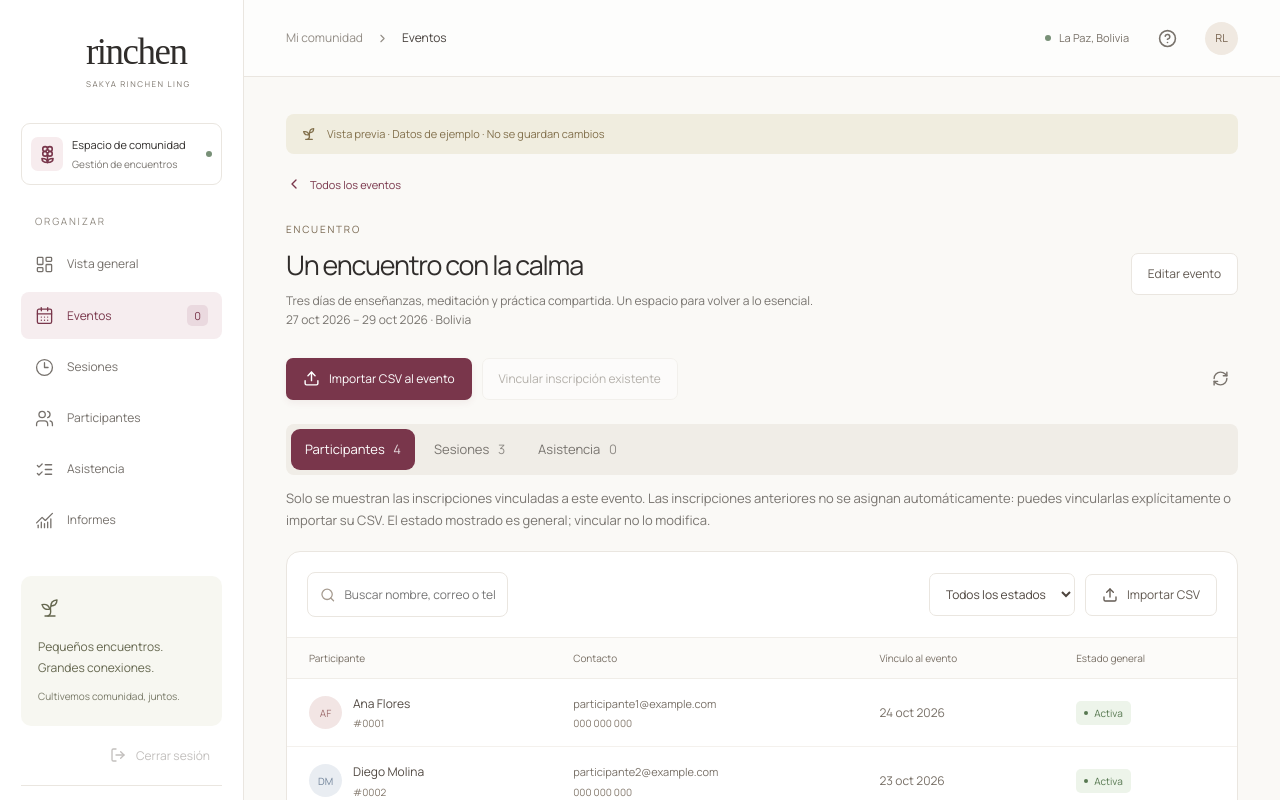
Test case: keeps event linking and CSV mutations disabled in preview
Expected: the button "Vincular inscripción existente" is disabled, x1=482 y1=358 x2=678 y2=400
Click the button "Importar CSV al evento" at (379, 379), box x1=286 y1=358 x2=472 y2=400
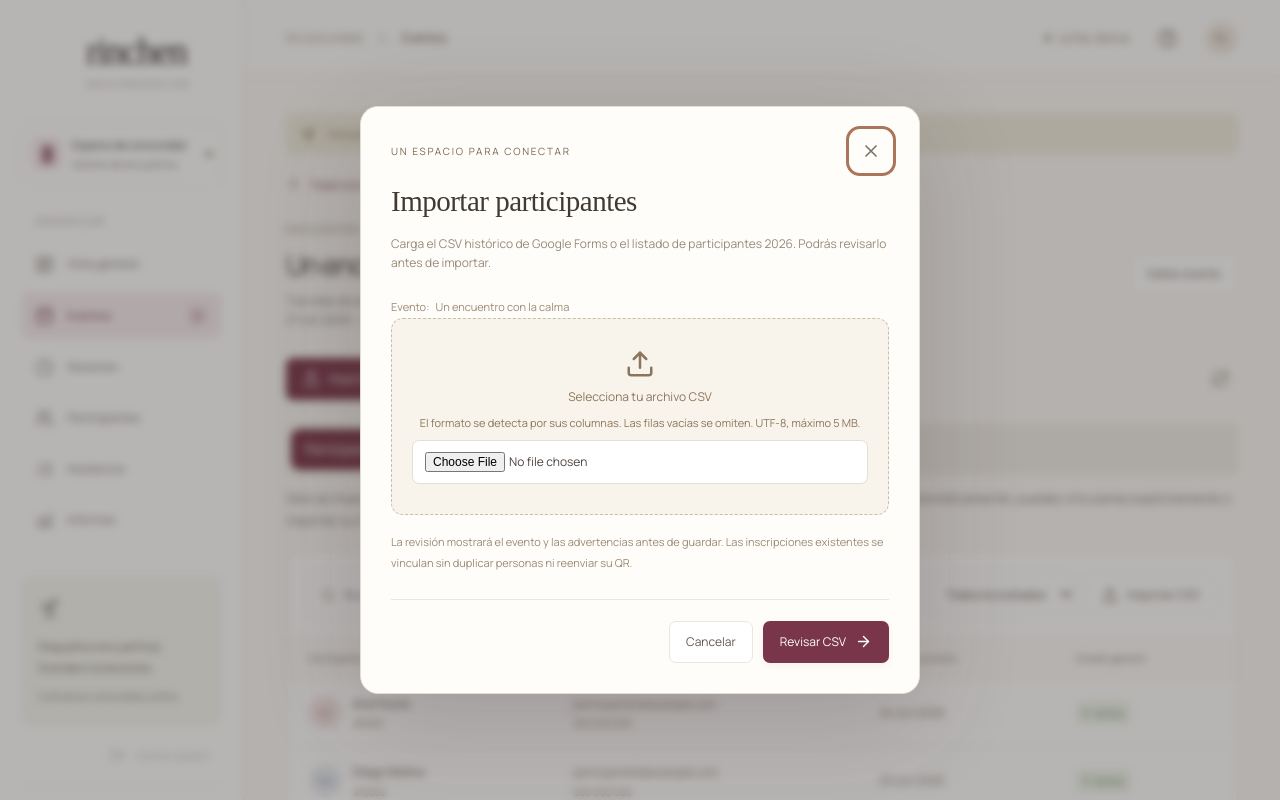
Submit the form named "Revisar CSV", box x1=391 y1=297 x2=889 y2=663
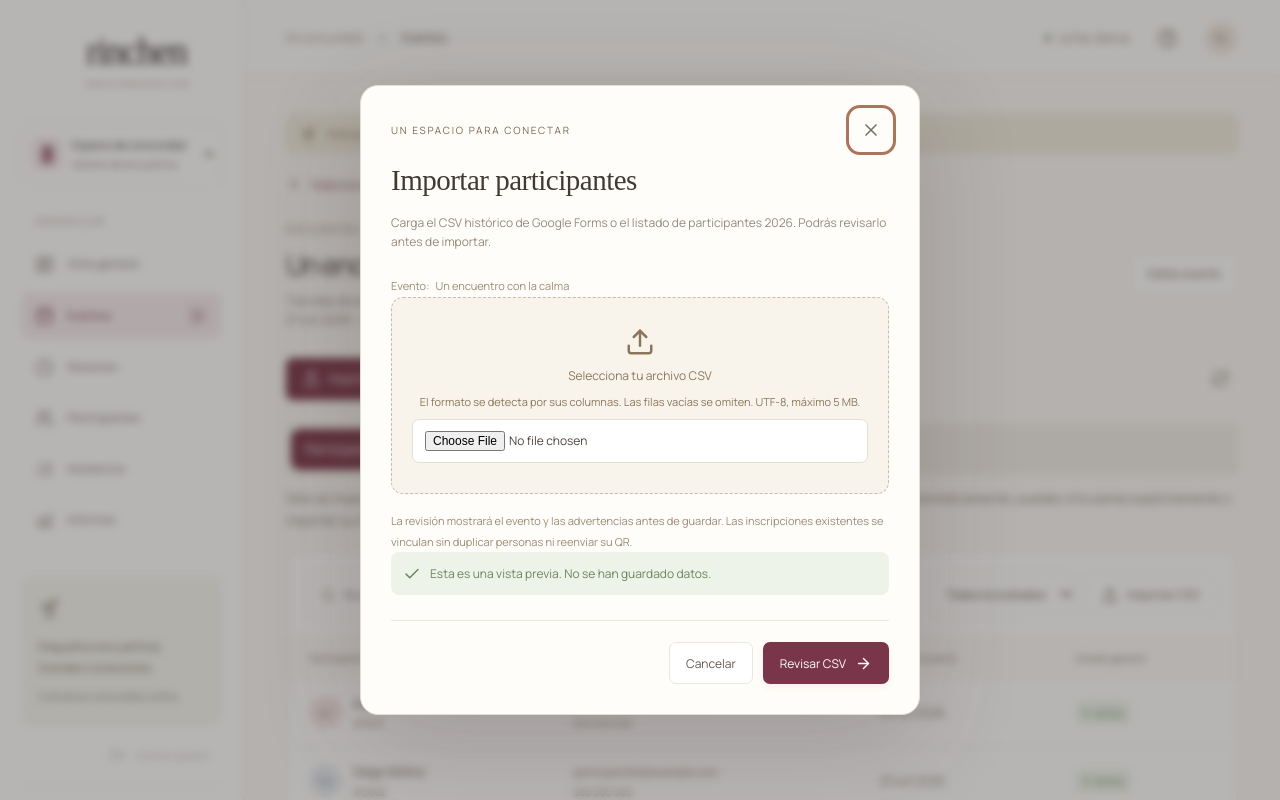
Expected: the message shows "No se han guardado datos", x1=430 y1=565 x2=711 y2=582
